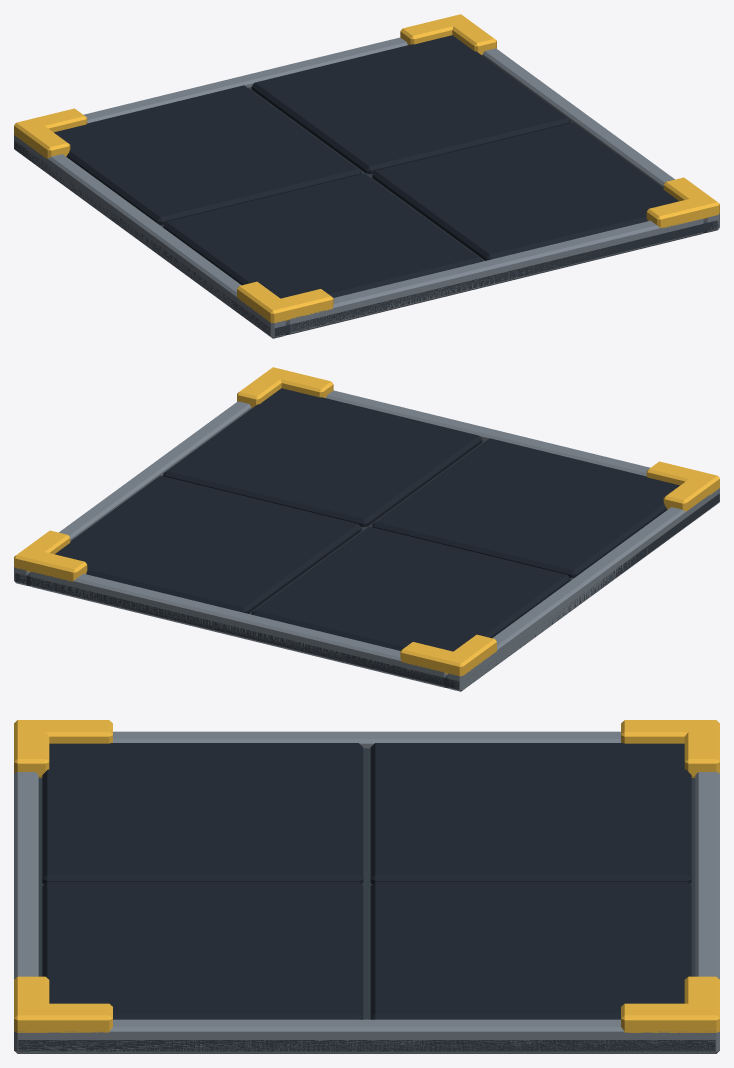
Rendered from Court_StationPad.fbx.
3 renders of one model, top to bottom at view 1: azimuth 30°, elevation 25°; view 2: azimuth 150°, elevation 25°; view 3: azimuth 270°, elevation 25°, orthographic. The views are drawn at different scales.
Parts seen in each view (by area): view 1: Slate, Steel, Accent_Metal, FrameDark; view 2: Slate, Steel, Accent_Metal, FrameDark; view 3: Slate, Steel, Accent_Metal, FrameDark.
Part boxes in pixels (x1,y1,x2,y2): Slate: (54, 35, 678, 298); Steel: (14, 37, 719, 338); Accent_Metal: (14, 14, 719, 323); FrameDark: (14, 87, 718, 336); Slate: (55, 388, 679, 651); Steel: (14, 390, 719, 691); Accent_Metal: (14, 367, 719, 676); FrameDark: (15, 440, 719, 689); Slate: (42, 743, 691, 1019); Steel: (14, 731, 719, 1053); Accent_Metal: (14, 720, 719, 1032); FrameDark: (18, 748, 715, 1051).
Size of the model in its own units: 10 by 0.6 by 10.
